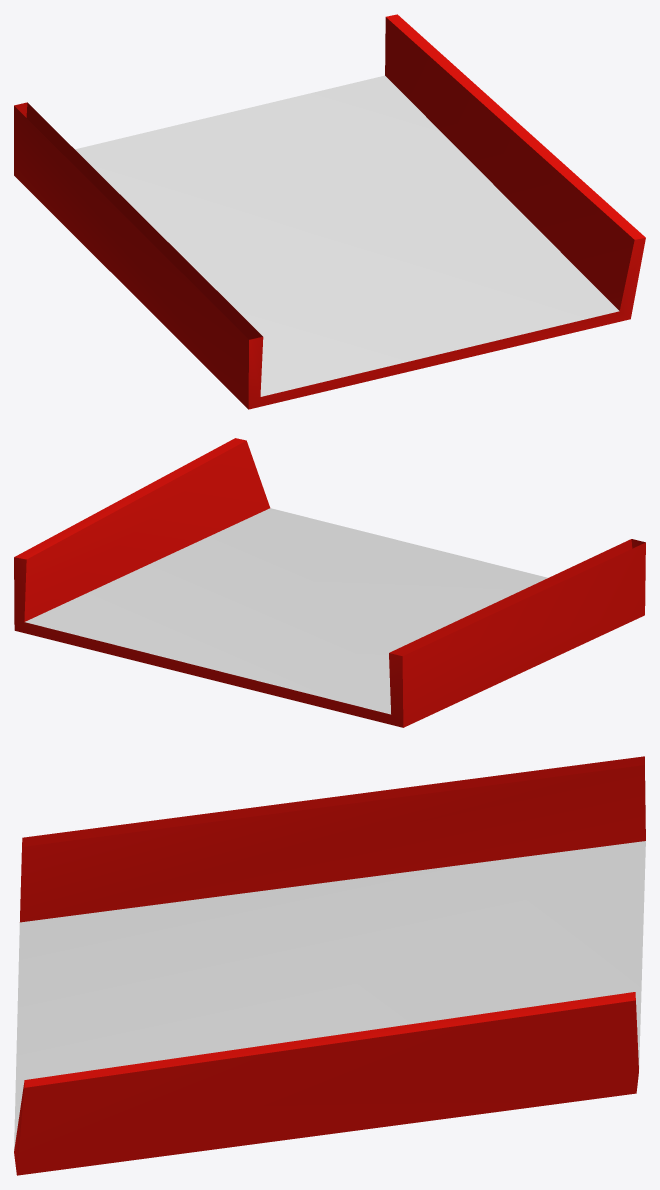
Rendered from T_CzTwirl_Ramp_Outline.fbx.
The picture shows the model from 3 angles, top to bottom: view 1: azimuth 30°, elevation 25°; view 2: azimuth 150°, elevation 25°; view 3: azimuth 270°, elevation 25°; orthographic projection. The views are drawn at different scales.
Parts seen in each view (by area): view 1: T_CzTwirl_Ramp_Outline; view 2: T_CzTwirl_Ramp_Outline; view 3: T_CzTwirl_Ramp_Outline.
Boxes of the visible parts, x1,y1,x2,y2 form: T_CzTwirl_Ramp_Outline: (14,14,645,409); T_CzTwirl_Ramp_Outline: (14,438,645,727); T_CzTwirl_Ramp_Outline: (14,756,645,1175).
Size of the model in its own units: 1015 by 326 by 1058.
